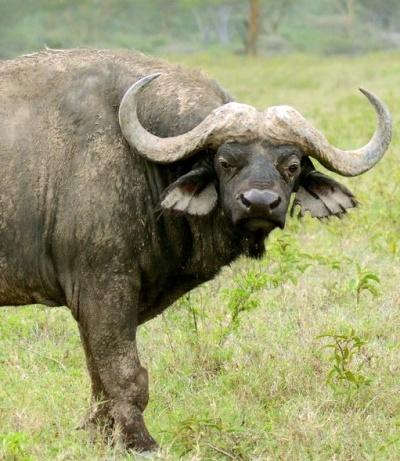buffalo: (5, 52, 393, 450)
